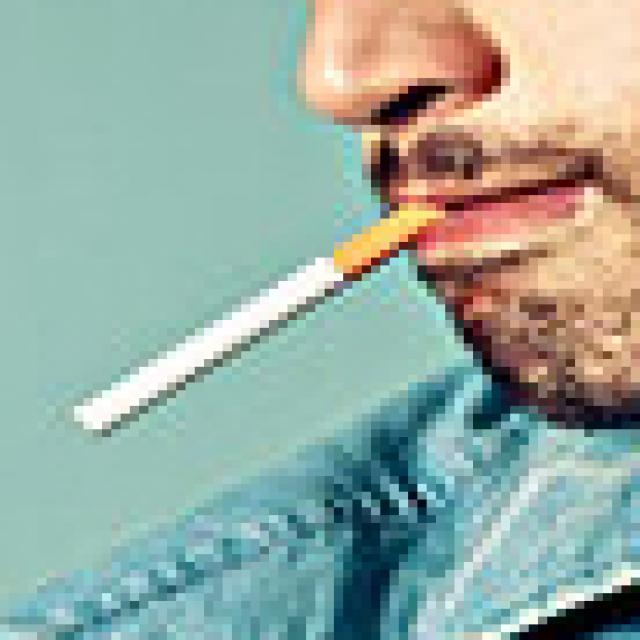smoking: (71, 201, 442, 440)
